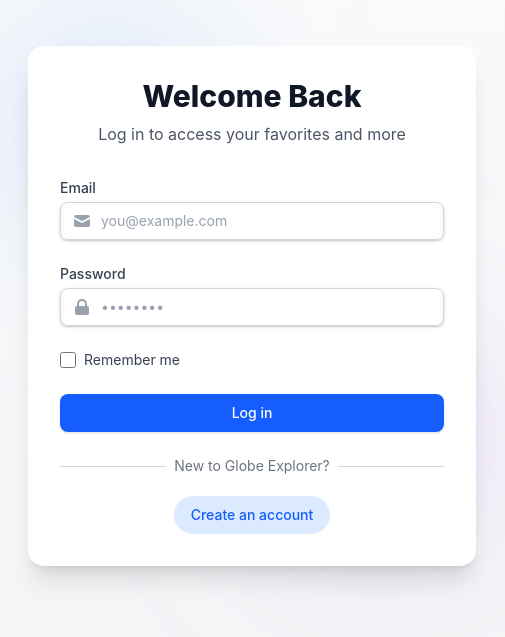
LoginPage › displays error on login failure
The image size is (505, 637).
# Fill form with valid data
In the field labelled "Email": point(252, 221) [60, 202, 444, 240], type "test@example.com"
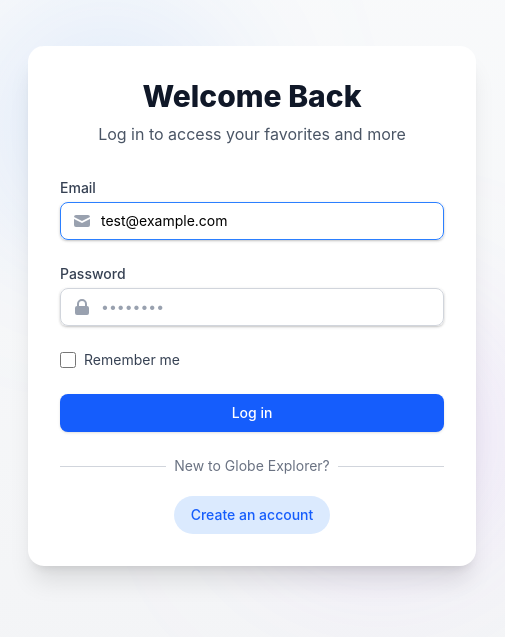
In the password field labelled "Password": point(252, 307) [60, 288, 444, 326], type "Password123"
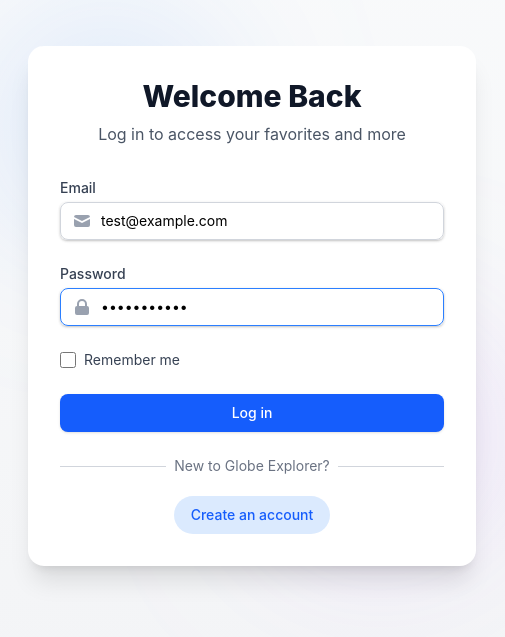
# Submit the form
Click the button: point(252, 413) [60, 394, 444, 432]
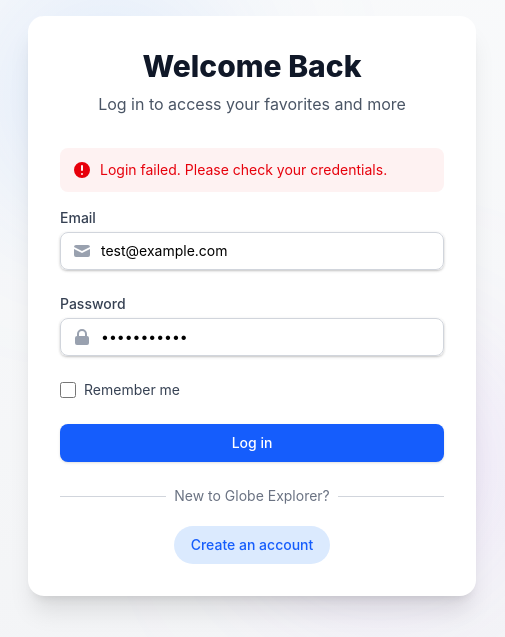
Result: the text "Login failed. Please check your credentials." is shown at [100, 160, 387, 180]
